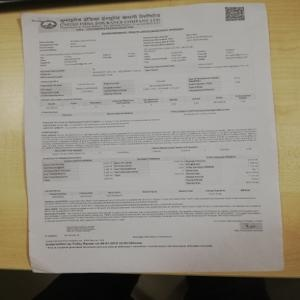image: (37, 12, 162, 30)
table: (35, 71, 254, 108), (38, 153, 261, 188)
text: (33, 30, 253, 69), (42, 195, 261, 217), (39, 123, 259, 143)
